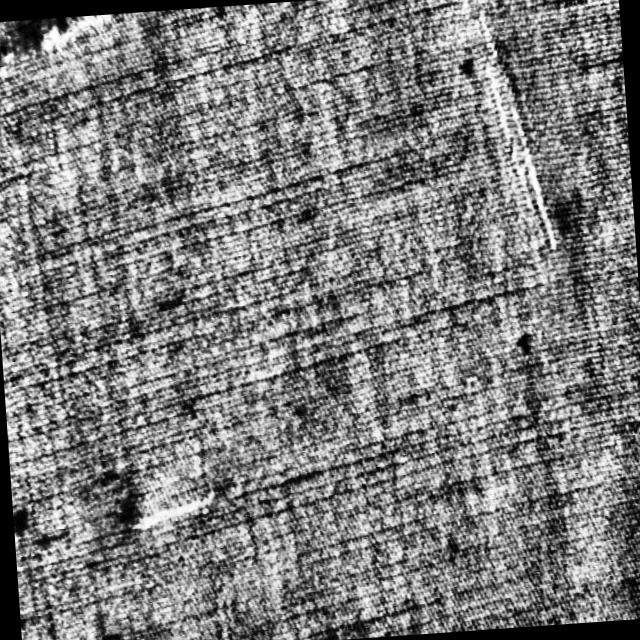gray stitch: (474, 0, 560, 263), (0, 14, 113, 84), (111, 463, 213, 531)
